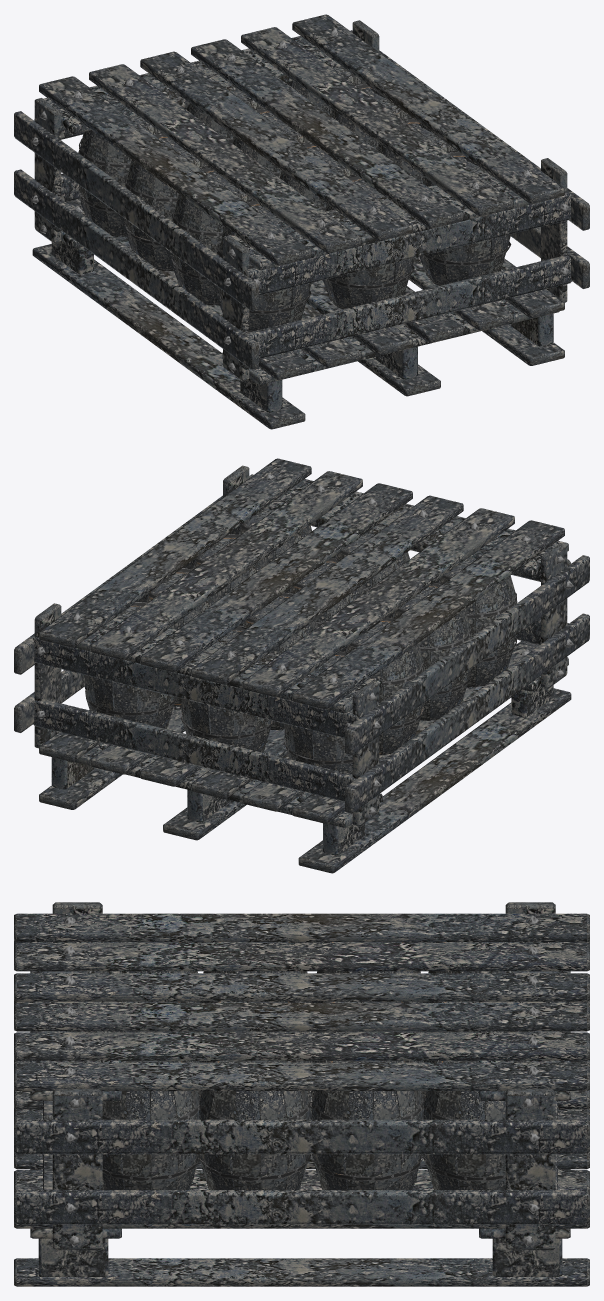
Rendered from SM_barrel_cargo_01.fbx.
3 renders of one model, top to bottom at view 1: azimuth 30°, elevation 25°; view 2: azimuth 150°, elevation 25°; view 3: azimuth 270°, elevation 25°, orthographic. The views are drawn at different scales.
Visible parts, largest first — view 1: SM_barrel_cargo_01_LOD0; view 2: SM_barrel_cargo_01_LOD0; view 3: SM_barrel_cargo_01_LOD0.
Boxes of the visible parts, box(x1,y1,x2,y2) form: SM_barrel_cargo_01_LOD0: box(14, 14, 589, 429); SM_barrel_cargo_01_LOD0: box(14, 458, 589, 873); SM_barrel_cargo_01_LOD0: box(14, 902, 589, 1286).
Size of the model in its own units: 297 by 350 by 143.
